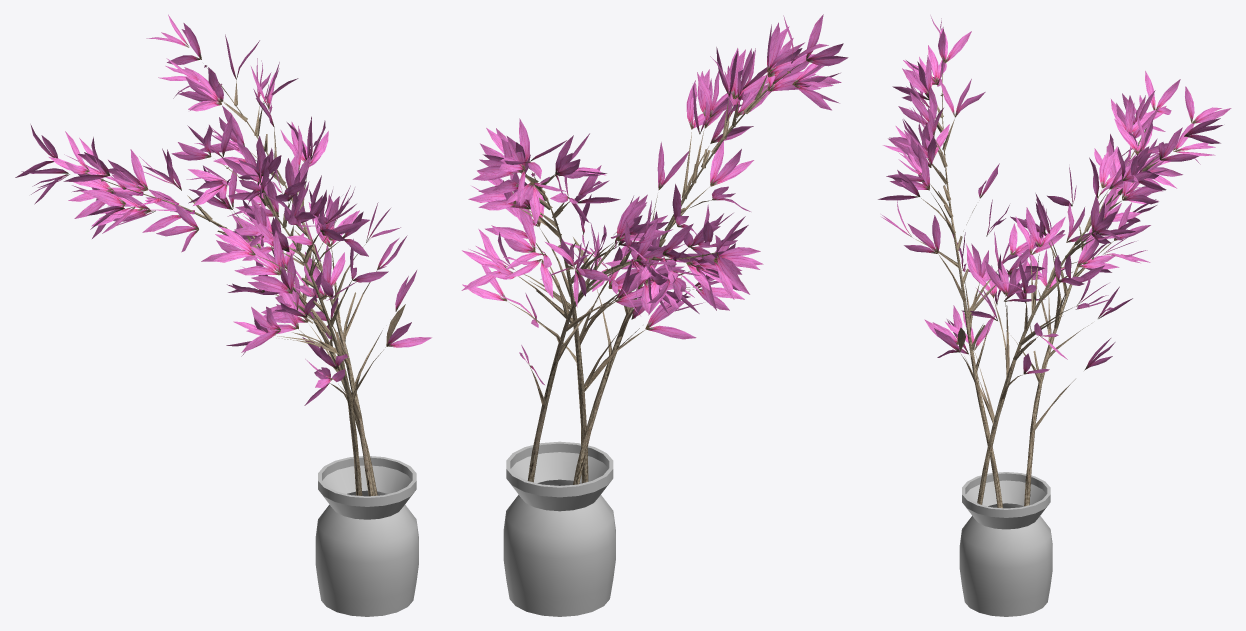
Rendered from Flowers.FBX.
3 views of the same model, side by side, from view 1: azimuth 30°, elevation 25°; view 2: azimuth 150°, elevation 25°; view 3: azimuth 270°, elevation 25° (orthographic). The views are drawn at different scales.
Parts seen in each view (by area): view 1: Flowers; view 2: Flowers; view 3: Flowers.
Part boxes in pixels (left/top/right/bottom): Flowers: left=15, top=14, right=431, bottom=616; Flowers: left=461, top=14, right=848, bottom=616; Flowers: left=878, top=15, right=1231, bottom=616.
Size of the model in its own units: 63.41 by 102 by 66.15.
